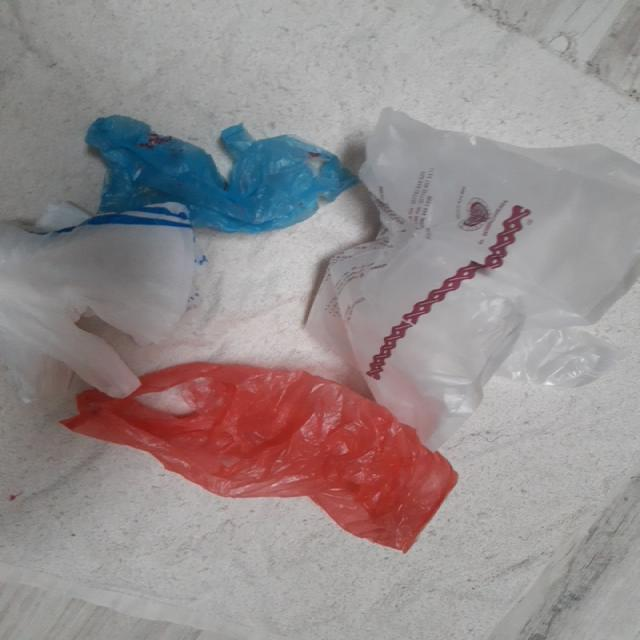Single-layer Plastic: (306, 109, 640, 448), (62, 362, 458, 551), (0, 204, 194, 398), (85, 115, 356, 232)
